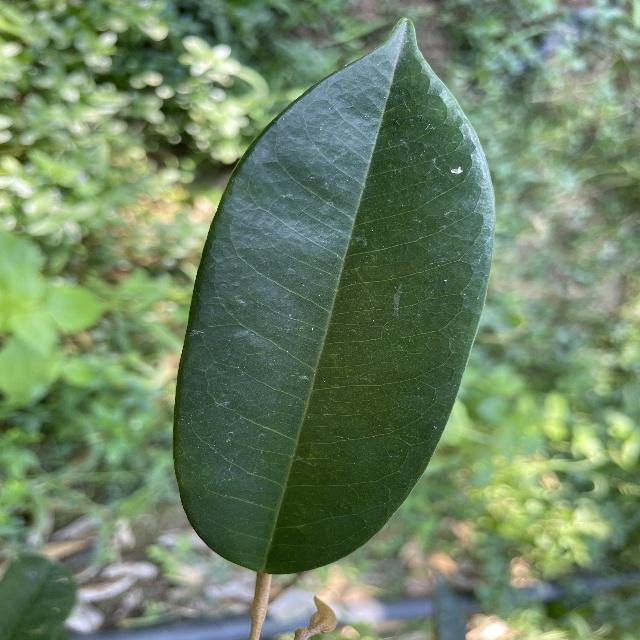No Disease: (163, 7, 509, 587)
